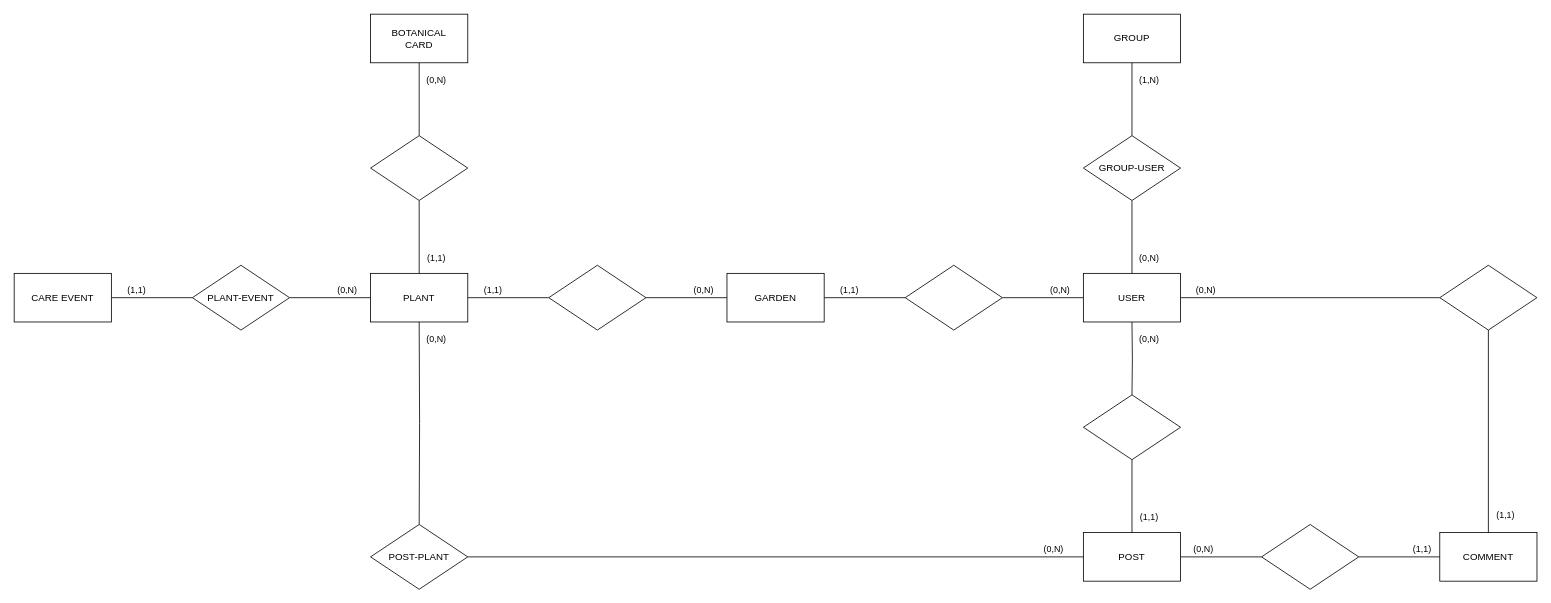
This 1551x603 diagram has some shape labels left out. Here are the shapes that lost their labels. From the top down, the centre of each, then its label:
(419,167): PLANT-CARD
(597,297): GARDEN-PLANT
(953,297): USER-GARDEN
(1488,297): USER-COMMENT
(1132,427): USER-POST
(1310,556): POST-COMMENT
